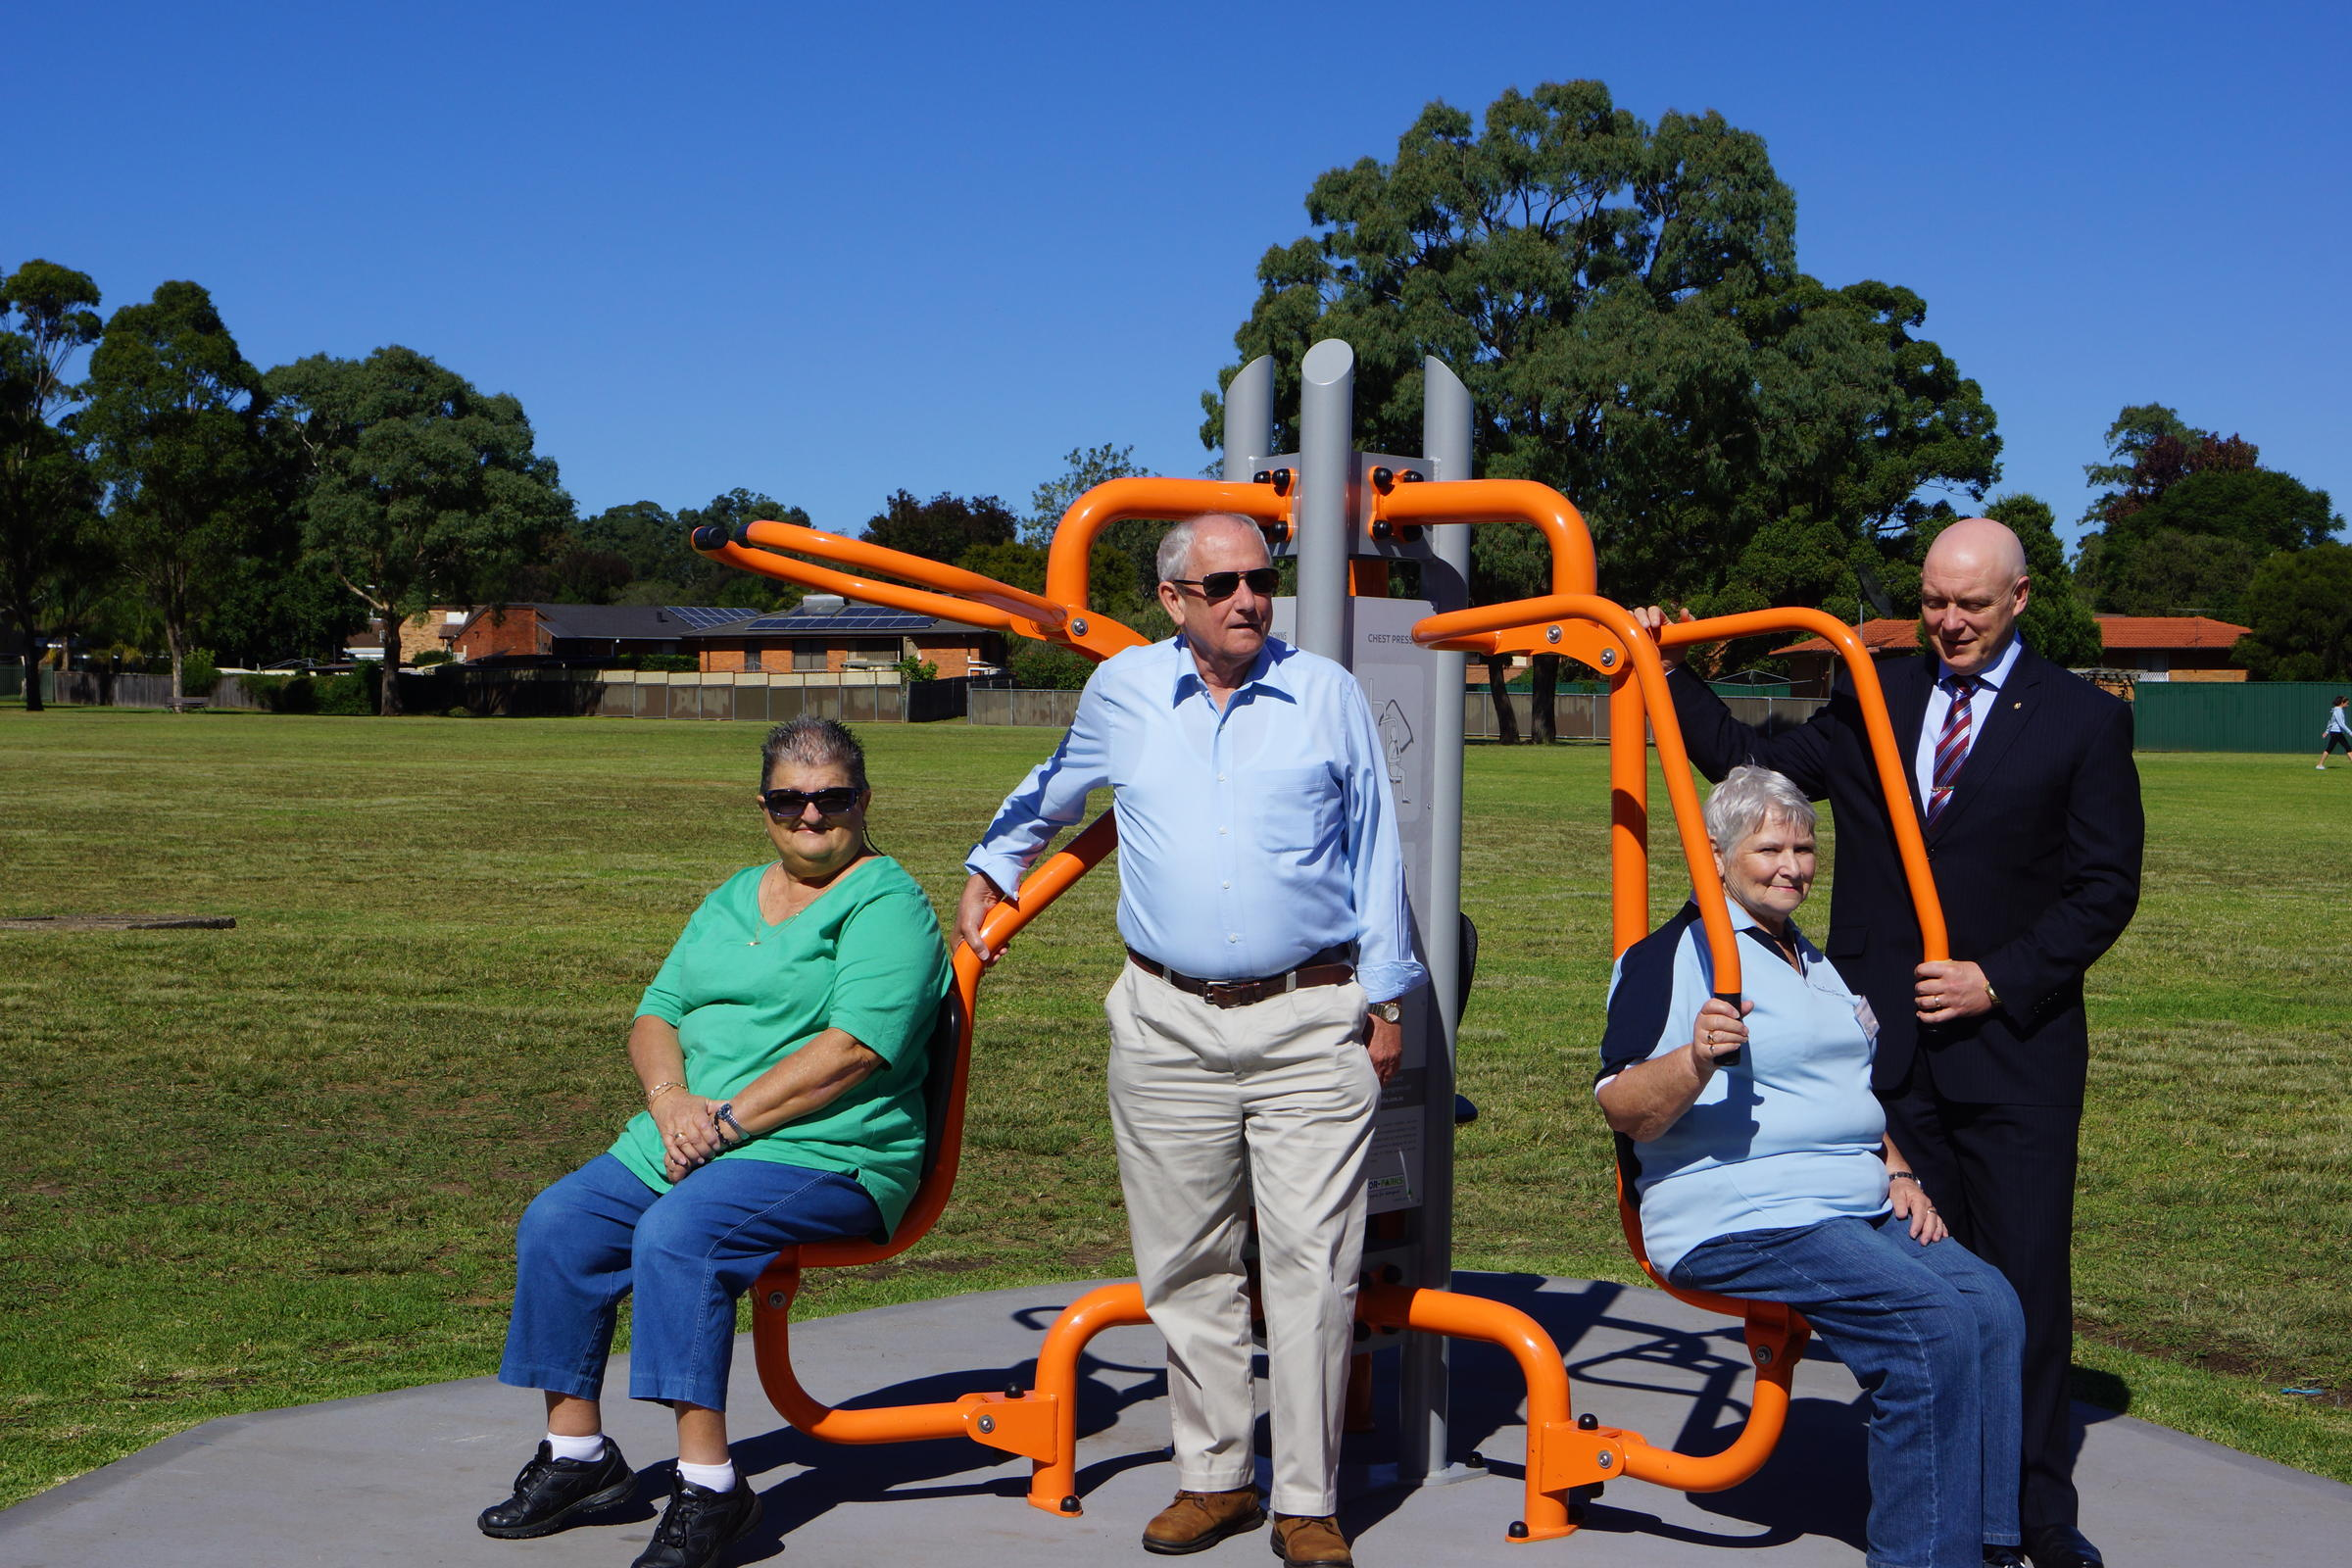Person: (1617, 515, 2191, 1568), (969, 494, 1494, 1563), (436, 668, 1021, 1568), (1532, 745, 2077, 1568)
